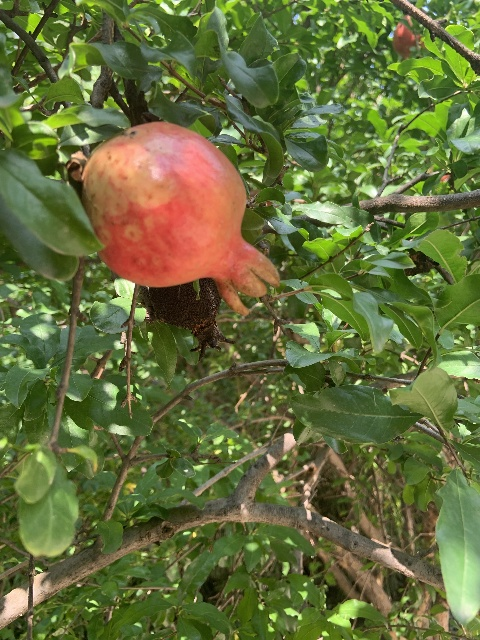ripe: (80, 121, 279, 316), (392, 15, 426, 62)
